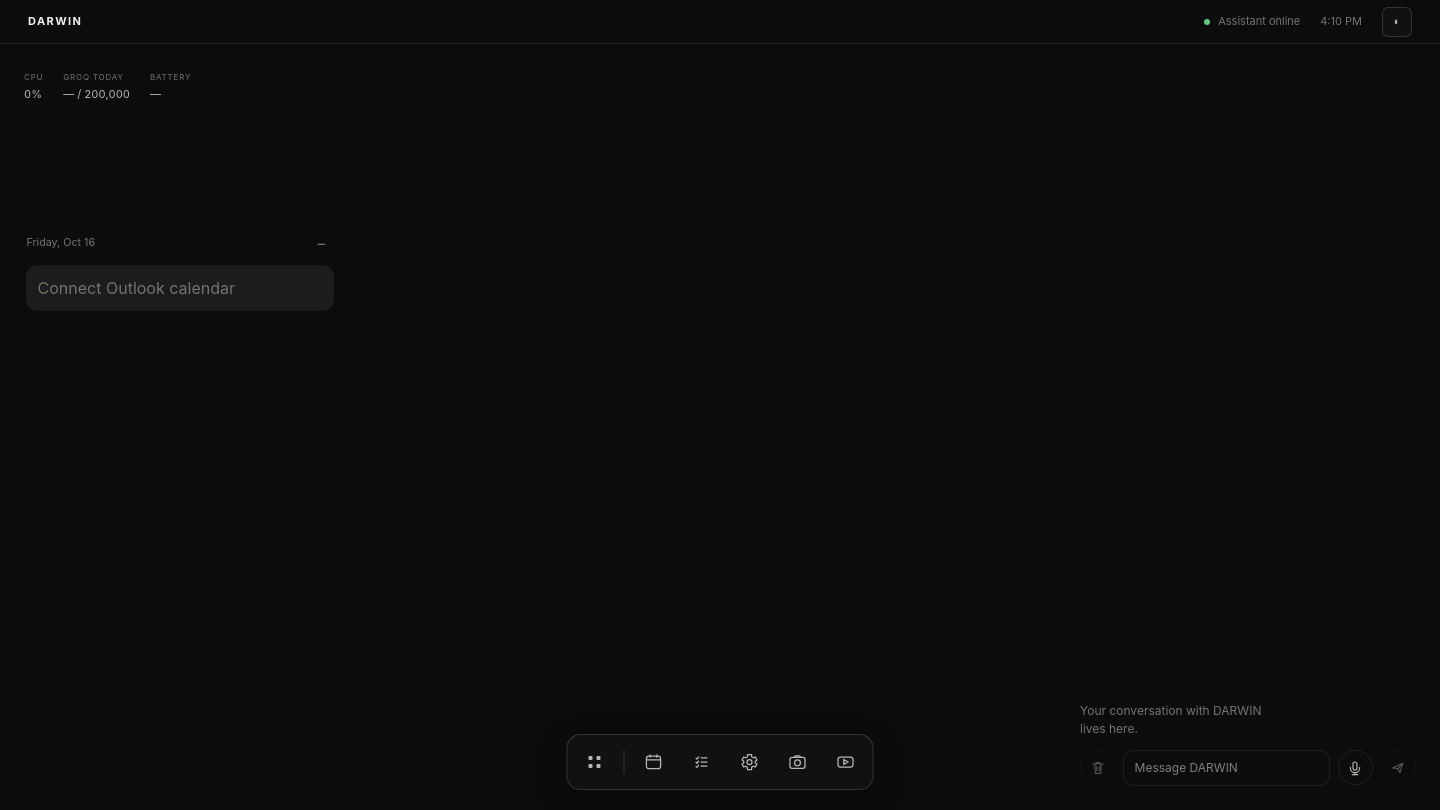
Scenario: DARWIN desktop shell › switches between dark and projector-black themes
This screenshot has width=1440, height=810.
Click the button named "Use projector black theme": (1397, 22) 1382,6 -> 1412,36
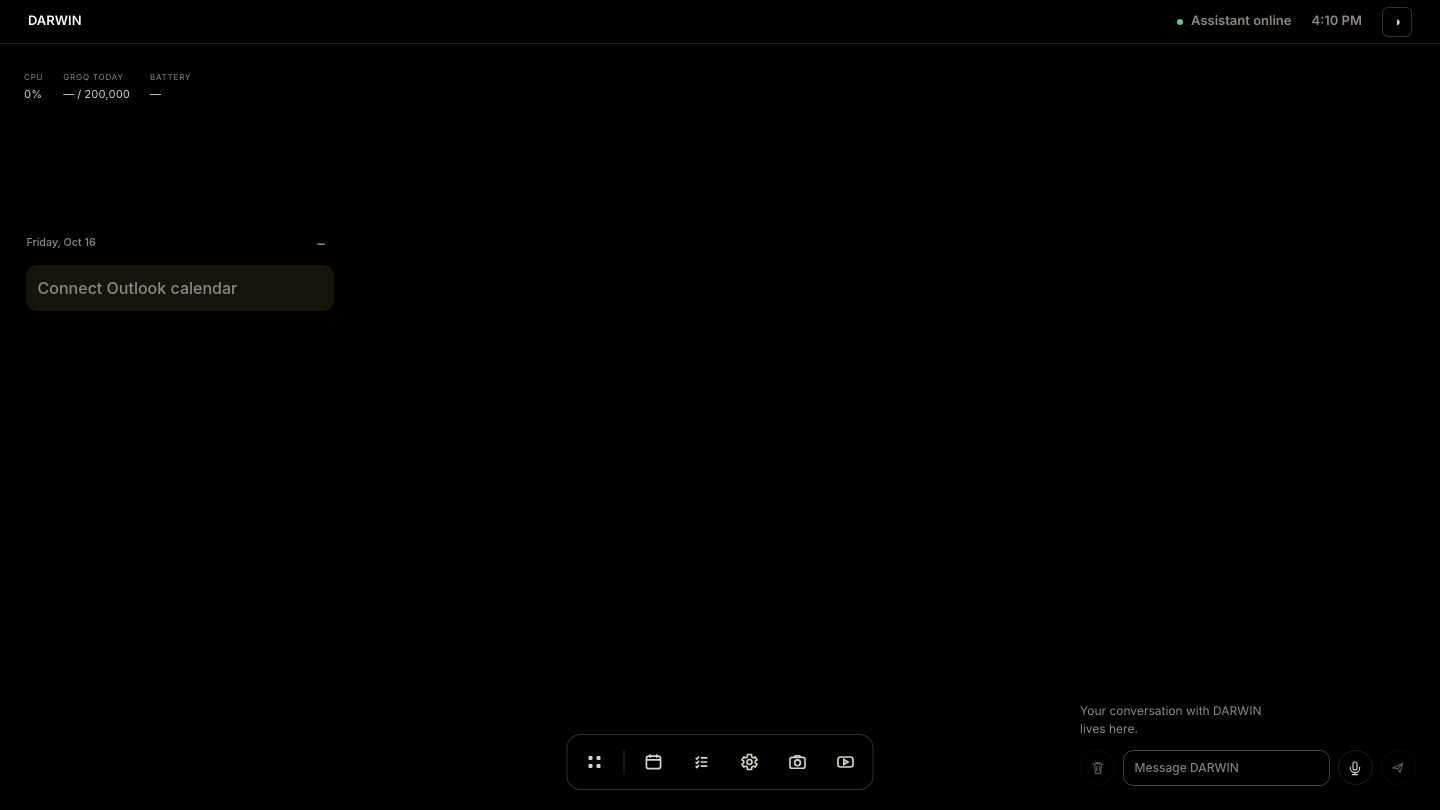
Expected: the button named "Use dark theme" is shown, 1382,6 -> 1412,36
